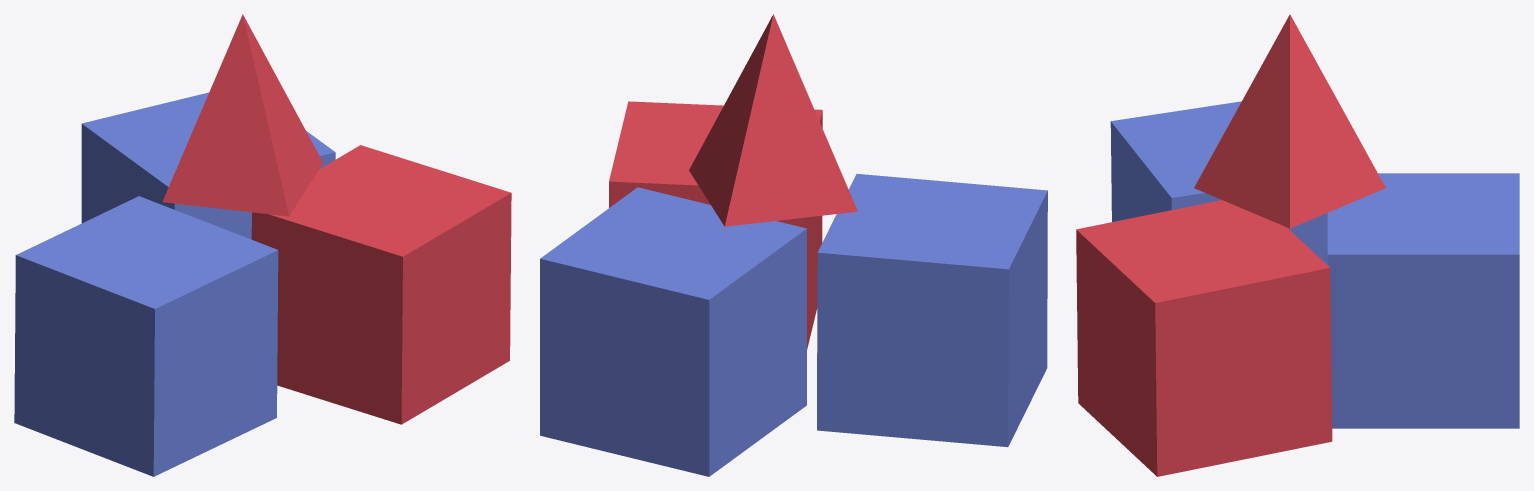
3 renders of one model, left to right at view 1: azimuth 30°, elevation 25°; view 2: azimuth 150°, elevation 25°; view 3: azimuth 270°, elevation 25°, orthographic. The views are drawn at different scales.
Parts seen in each view (by area): view 1: Cube.002, Cube.001, Cube; view 2: Cube, Cube.002, Cube.001; view 3: Cube, Cube.001, Cube.002.
Part boxes in pixels (x1,y1,x2,y2): Cube.002: [14, 196, 278, 476]; Cube.001: [251, 145, 511, 424]; Cube: [81, 14, 335, 239]; Cube: [540, 14, 857, 476]; Cube.002: [817, 173, 1047, 447]; Cube.001: [609, 101, 822, 349]; Cube: [1194, 14, 1519, 428]; Cube.001: [1076, 200, 1332, 476]; Cube.002: [1110, 101, 1327, 264].
Bounding box in the file's own units: 0.5333 × 0.4242 × 0.4618.
